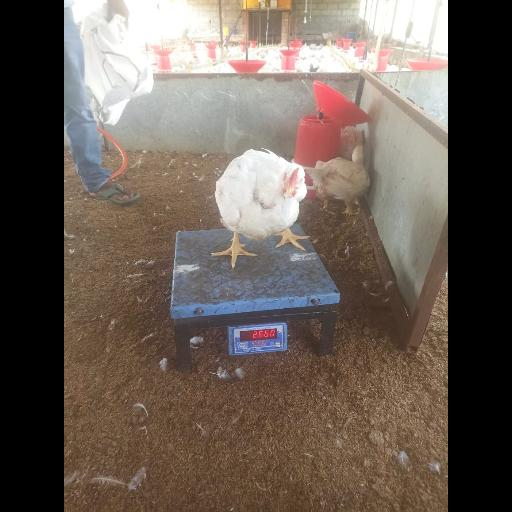chick: (211, 148, 313, 269)
